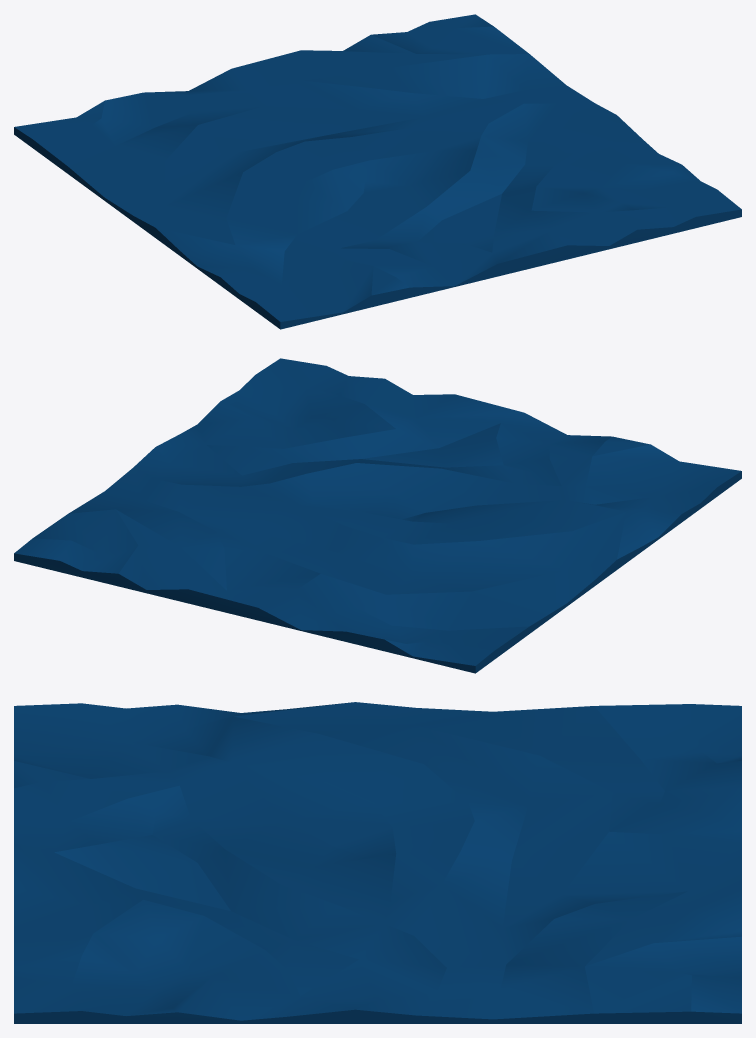
Rendered from Water_Base.fbx.
The picture shows the model from 3 angles, top to bottom: view 1: azimuth 30°, elevation 25°; view 2: azimuth 150°, elevation 25°; view 3: azimuth 270°, elevation 25°; orthographic projection. The views are drawn at different scales.
Parts seen in each view (by area): view 1: Water_Base; view 2: Water_Base; view 3: Water_Base.
Part boxes in pixels (box(x1,y1,x2,y2)): Water_Base: box(14, 14, 741, 329); Water_Base: box(14, 358, 741, 673); Water_Base: box(14, 702, 741, 1023).
Size of the model in its own units: 147 by 6.19 by 147.
